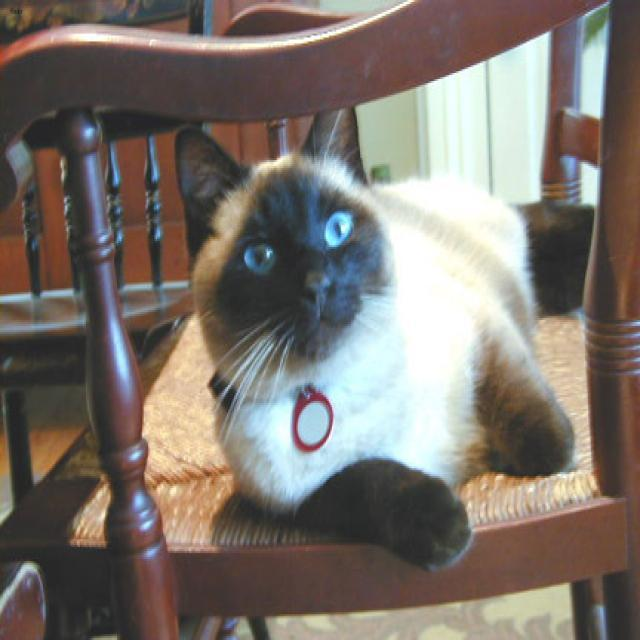Siamese: (172, 105, 395, 362)
